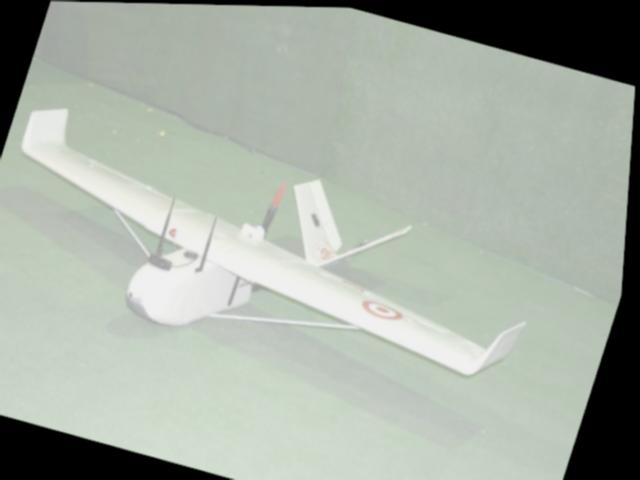iha: (0, 85, 577, 428)
